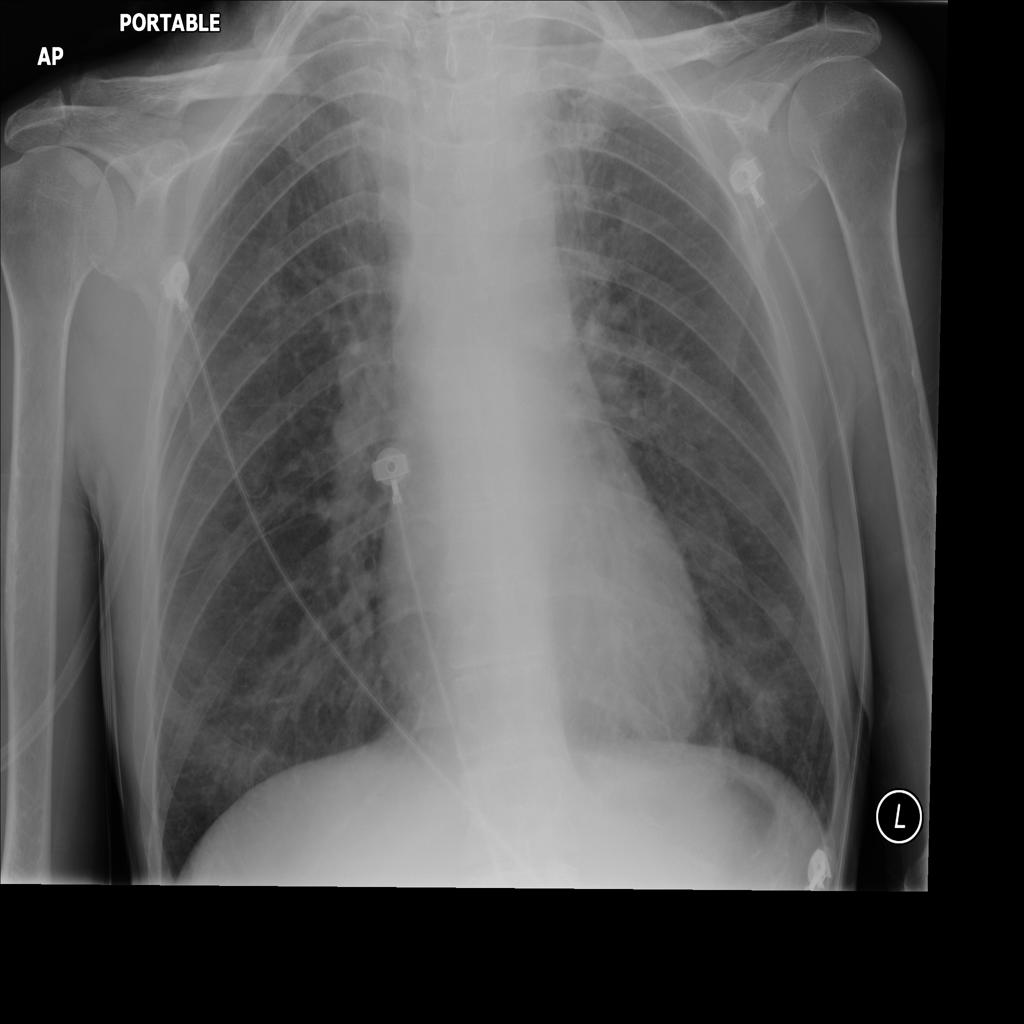nodule: (727, 673, 800, 759), (760, 591, 806, 649)
